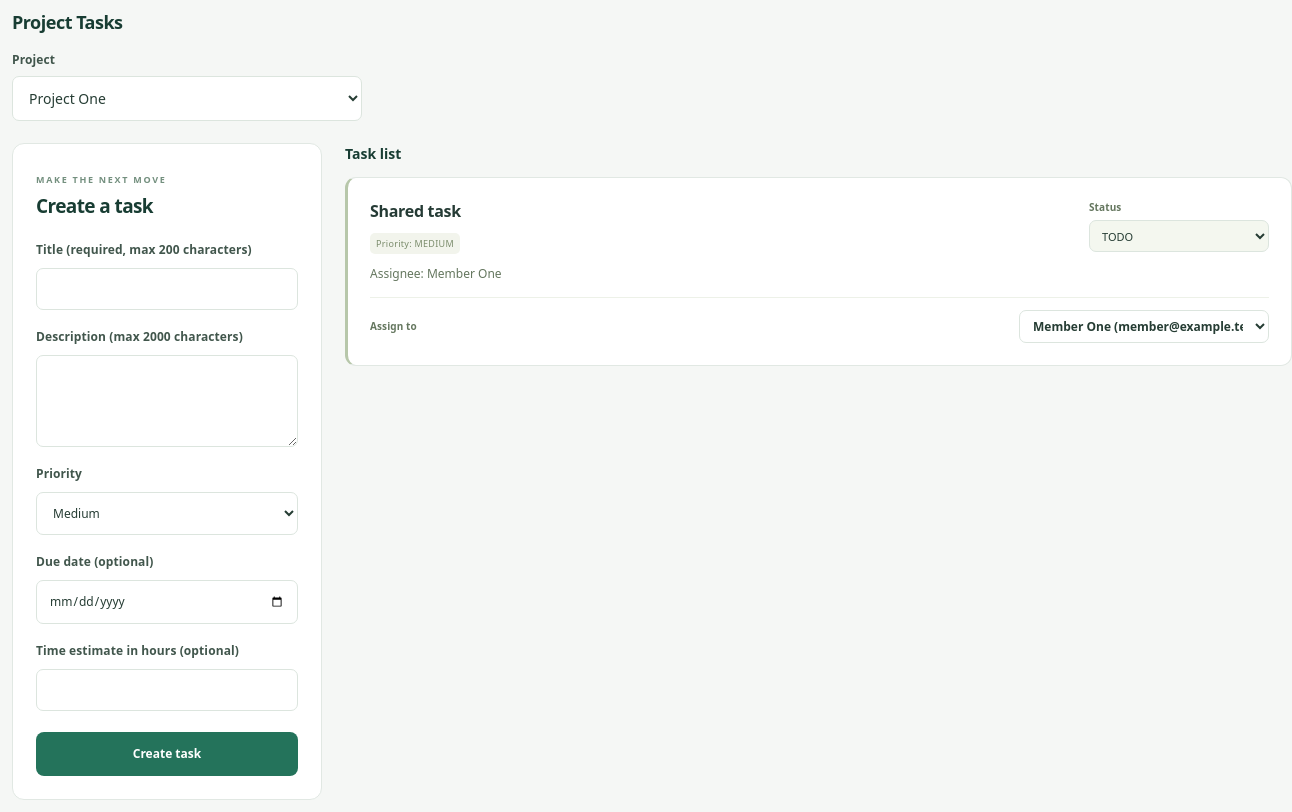
Test: TaskWorkspace background synchronization › ignores late responses from a previously selected project
Select "Project Two" in the dropdown labelled "Project": (187, 98) [12,76,362,121]
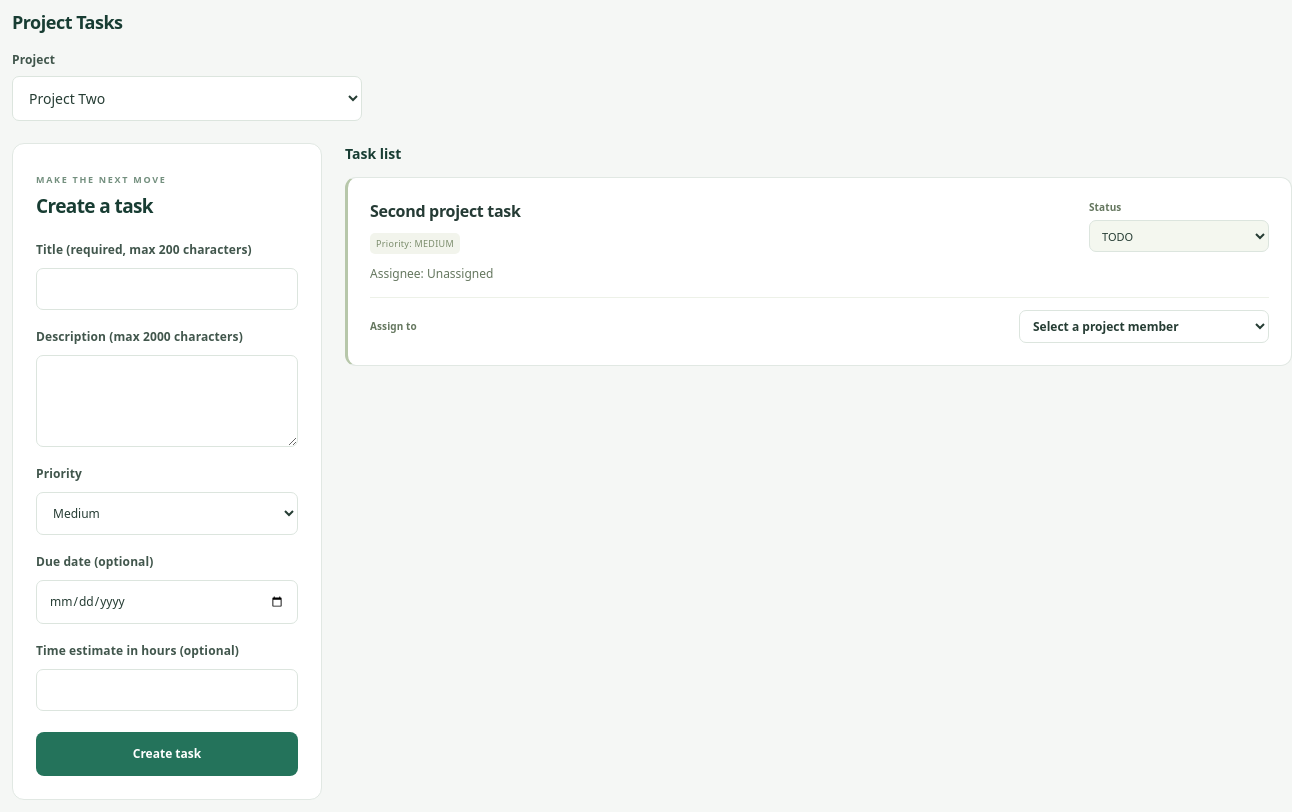
Expected: the text "Second project task" is shown, [370,200,521,222]
Expected: the text "Shared task" is gone
